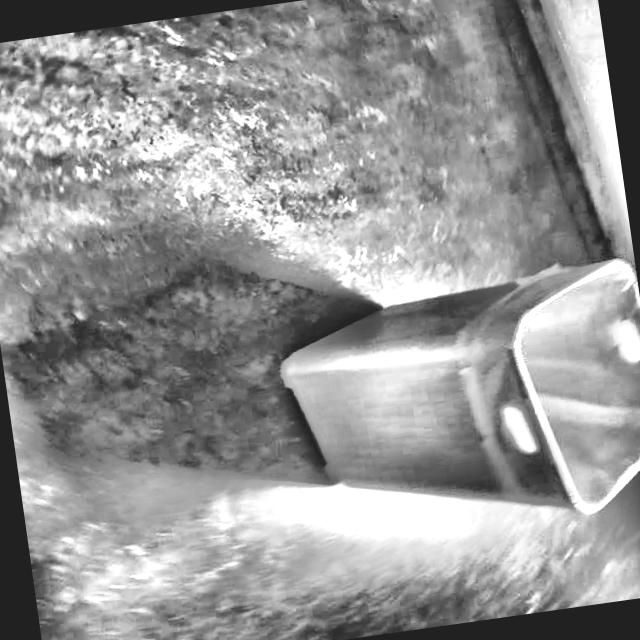Dustbin: (255, 240, 640, 582)
